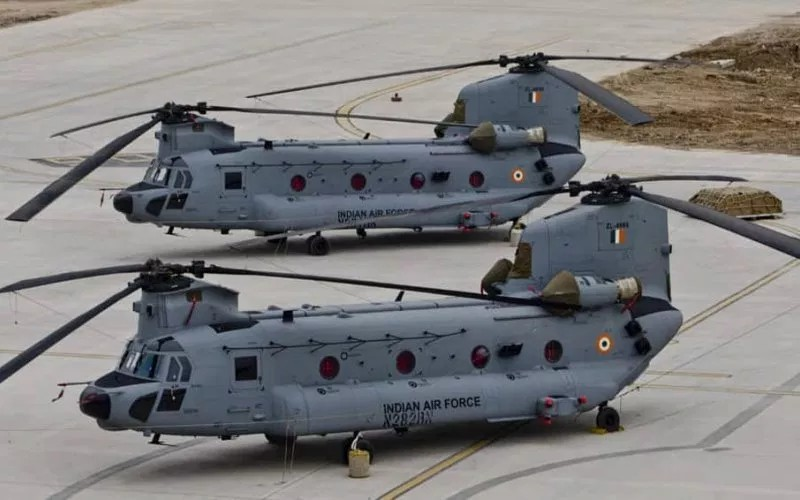chinook: (62, 175, 699, 467), (87, 43, 588, 237)
